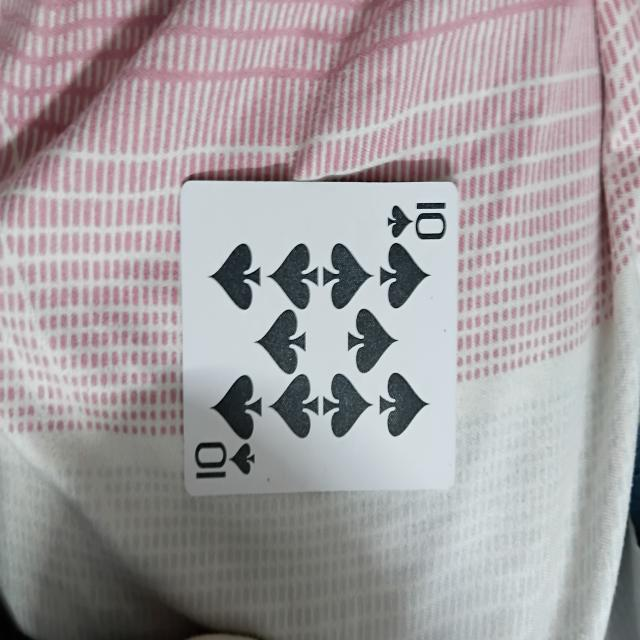10S: (180, 178, 456, 490)
